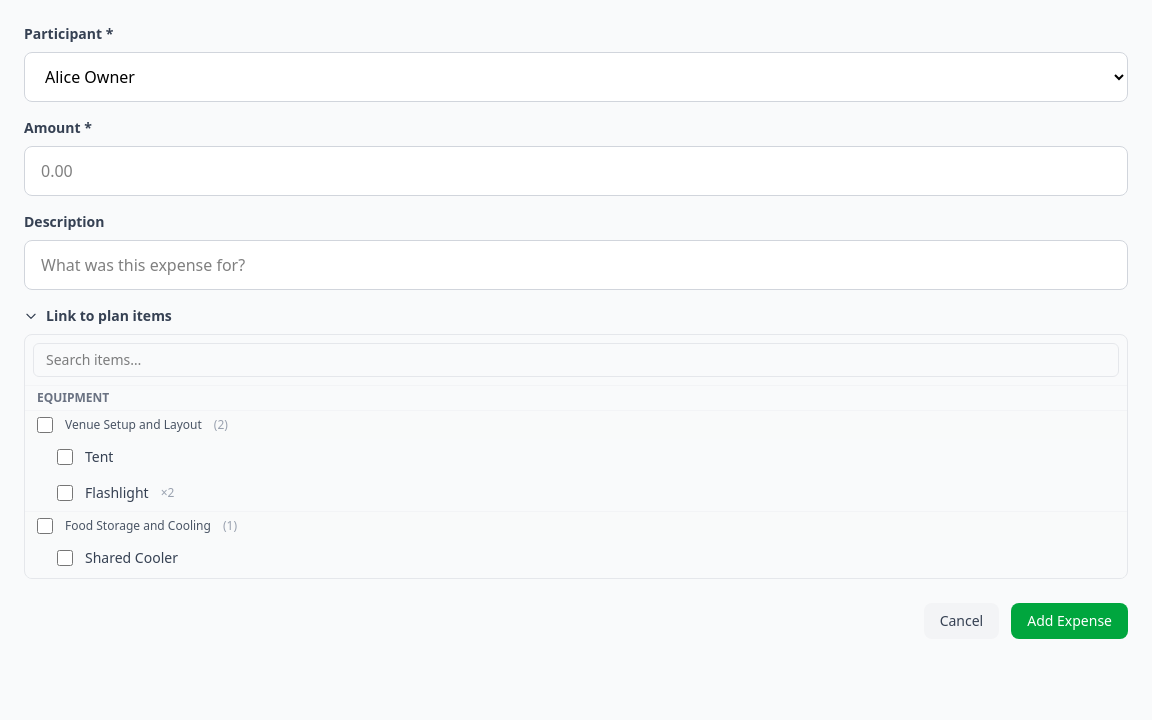
Test: ExpenseForm › item multi-select › bulk-selects all items in a subcategory
Click the checkbox labelled "Venue Setup and Layout (2)": point(45, 425) [37, 417, 53, 433]
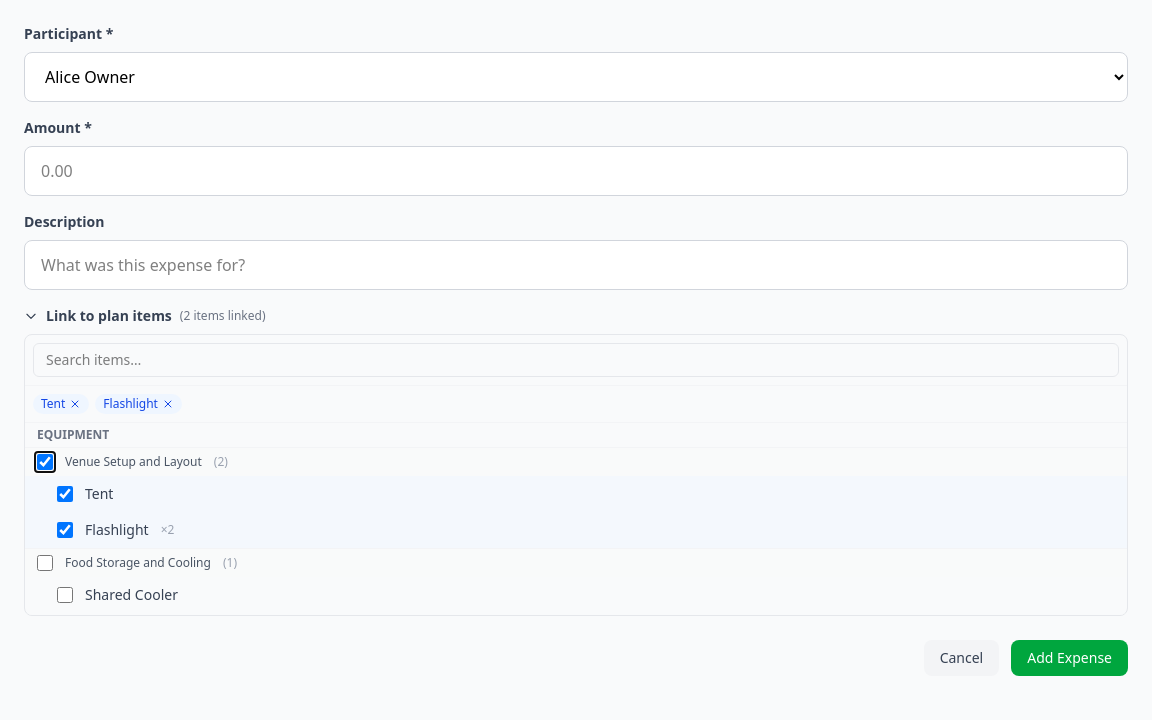
expect the checkbox labelled "Tent" is checked: met, box [57, 486, 73, 502]
expect the checkbox labelled "Flashlight ×2" is checked: met, box [57, 522, 73, 538]
Click the checkbox labelled "Venue Setup and Layout (2)": point(45, 462) [37, 454, 53, 470]
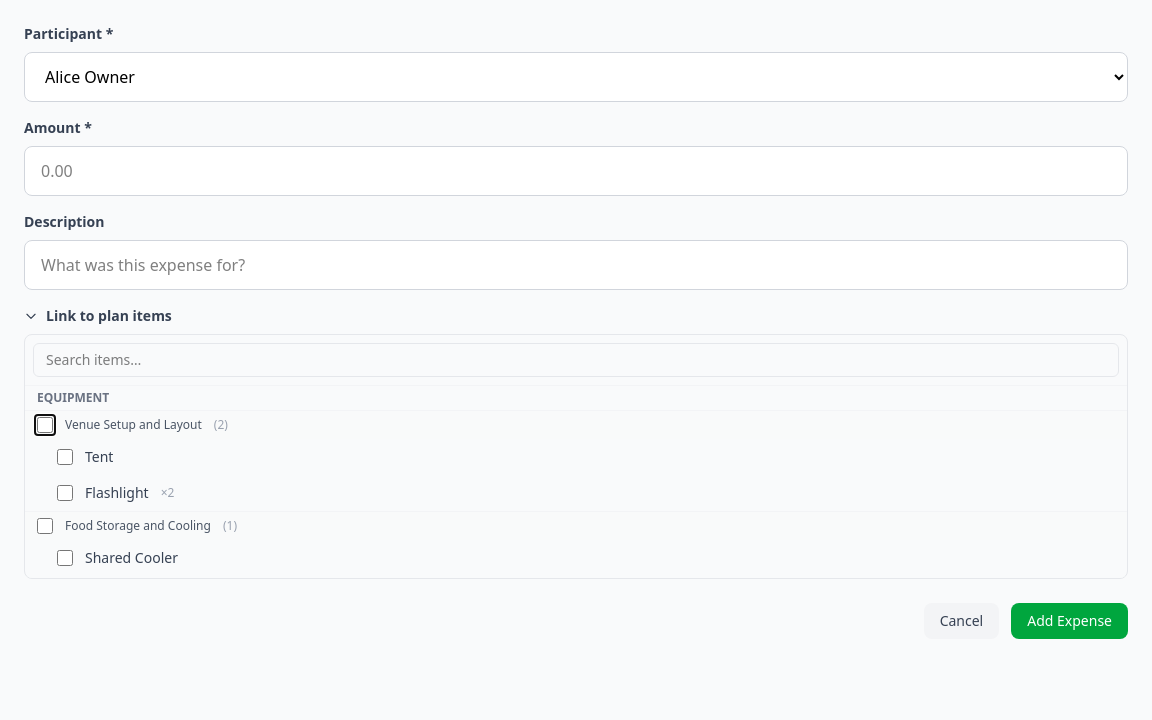
expect the checkbox labelled "Tent" is not checked: met, box [57, 449, 73, 465]
expect the checkbox labelled "Flashlight ×2" is not checked: met, box [57, 485, 73, 501]
